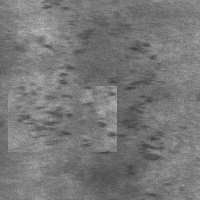rolled-in_scale: (41, 27, 114, 152), (107, 40, 166, 166), (8, 86, 117, 152)
